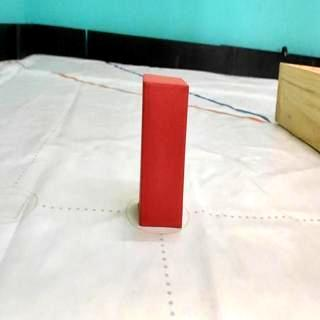redbox: (140, 74, 190, 228)
